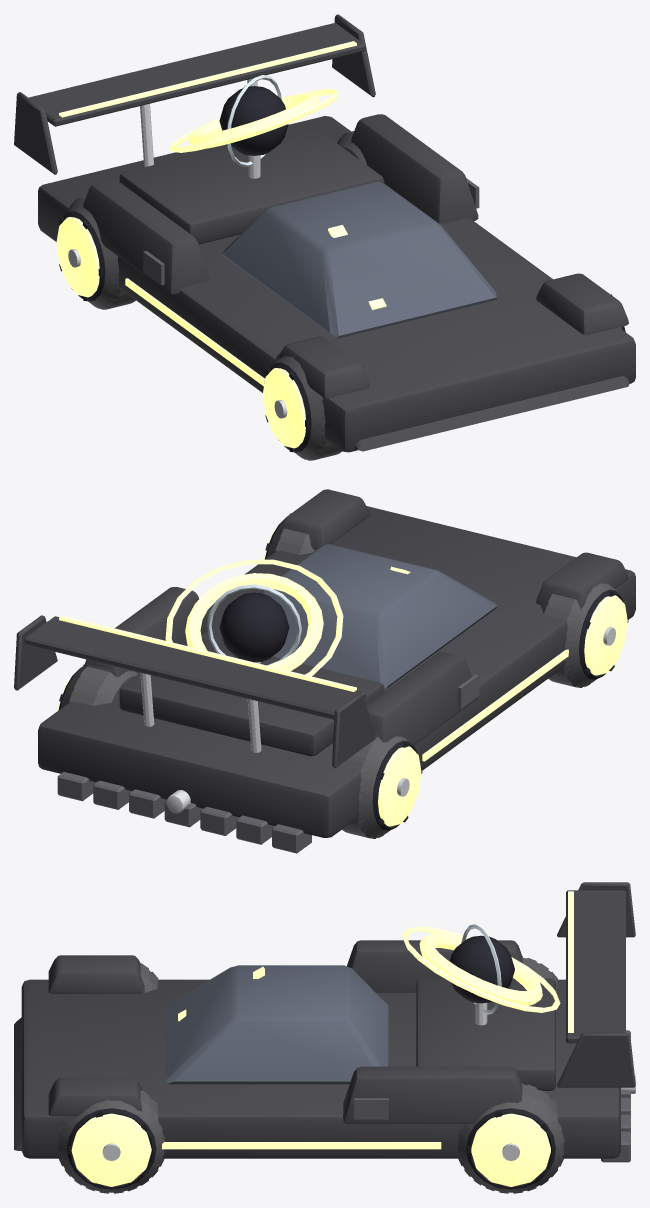
Rendered from singularity.fbx.
The picture shows the model from 3 angles, top to bottom: view 1: azimuth 30°, elevation 25°; view 2: azimuth 150°, elevation 25°; view 3: azimuth 270°, elevation 25°; orthographic projection. The views are drawn at different scales.
Visible parts, largest first — view 1: Body, Glass, Light, Metal, Wheel_FR, Wheel_RR, Accent, Trim; view 2: Body, Glass, Light, Trim, Metal, Wheel_FR, Wheel_RR, Accent, Wheel_RL, Light2, Wheel_FL; view 3: Body, Glass, Light, Metal, Wheel_RL, Wheel_FL, Trim, Accent, Light2.
Part boxes in pixels (bbox=[...]): Body: bbox=[14, 14, 635, 452]; Glass: bbox=[222, 181, 497, 338]; Light: bbox=[56, 41, 626, 448]; Metal: bbox=[59, 86, 625, 452]; Wheel_FR: bbox=[273, 351, 341, 460]; Wheel_RR: bbox=[66, 196, 135, 309]; Accent: bbox=[68, 78, 287, 418]; Trim: bbox=[143, 178, 479, 285]; Body: bbox=[14, 489, 635, 837]; Glass: bbox=[223, 544, 497, 689]; Light: bbox=[58, 520, 627, 826]; Trim: bbox=[57, 674, 479, 853]; Metal: bbox=[58, 513, 628, 830]; Wheel_FR: bbox=[541, 583, 617, 687]; Wheel_RR: bbox=[339, 735, 408, 838]; Accent: bbox=[140, 627, 615, 813]; Wheel_RL: bbox=[62, 665, 138, 707]; Light2: bbox=[207, 584, 301, 664]; Wheel_FL: bbox=[268, 525, 315, 556]; Body: bbox=[14, 882, 635, 1158]; Glass: bbox=[165, 965, 388, 1084]; Light: bbox=[71, 891, 573, 1186]; Metal: bbox=[66, 935, 555, 1189]; Wheel_RL: bbox=[457, 1083, 564, 1193]; Wheel_FL: bbox=[58, 1090, 165, 1193]; Trim: bbox=[354, 1030, 630, 1162]; Accent: bbox=[102, 1002, 635, 1160]; Light2: bbox=[461, 924, 501, 1014].
Size of the model in its own units: 3.72 by 2.18 by 6.23.
